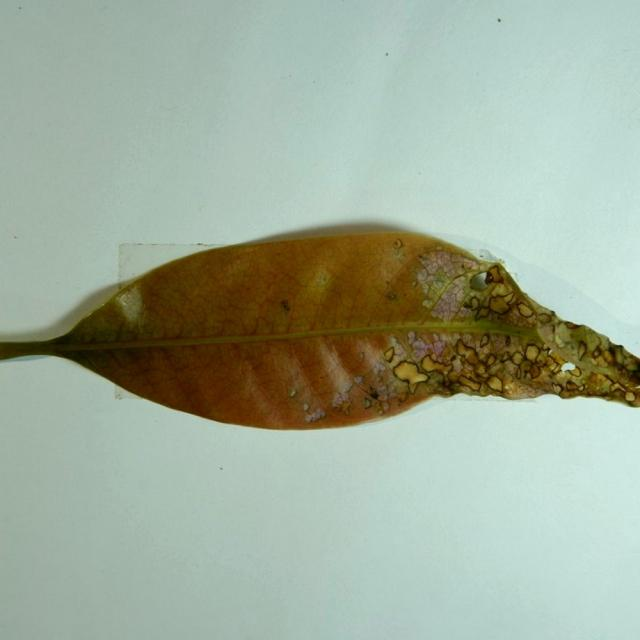Anthracnose: (381, 344, 427, 386), (111, 285, 145, 331), (552, 322, 583, 356), (487, 291, 517, 314), (432, 293, 458, 317), (420, 354, 449, 375), (586, 371, 612, 390), (608, 381, 634, 400), (602, 373, 627, 391), (382, 283, 403, 303), (364, 395, 385, 414), (484, 265, 505, 284), (458, 376, 482, 392), (547, 352, 567, 371), (469, 273, 489, 292), (488, 282, 512, 297), (517, 359, 534, 378), (524, 343, 541, 362), (486, 375, 504, 392), (429, 340, 446, 357), (516, 302, 534, 318), (456, 340, 472, 357), (370, 363, 387, 379), (463, 349, 479, 365), (332, 392, 347, 409), (306, 408, 324, 422), (510, 351, 525, 366), (565, 380, 583, 392), (536, 312, 553, 324), (475, 306, 490, 319), (528, 363, 541, 378), (383, 346, 395, 362), (467, 296, 480, 310), (603, 348, 615, 363), (555, 330, 566, 346), (559, 388, 576, 398), (340, 400, 352, 414), (566, 366, 581, 377), (485, 353, 497, 366), (475, 364, 487, 376), (592, 346, 602, 360), (480, 334, 490, 348), (551, 383, 563, 394), (416, 269, 427, 281), (393, 238, 403, 249), (421, 299, 432, 308), (364, 397, 372, 409), (354, 375, 363, 384)
Mango: (0, 224, 639, 433)
